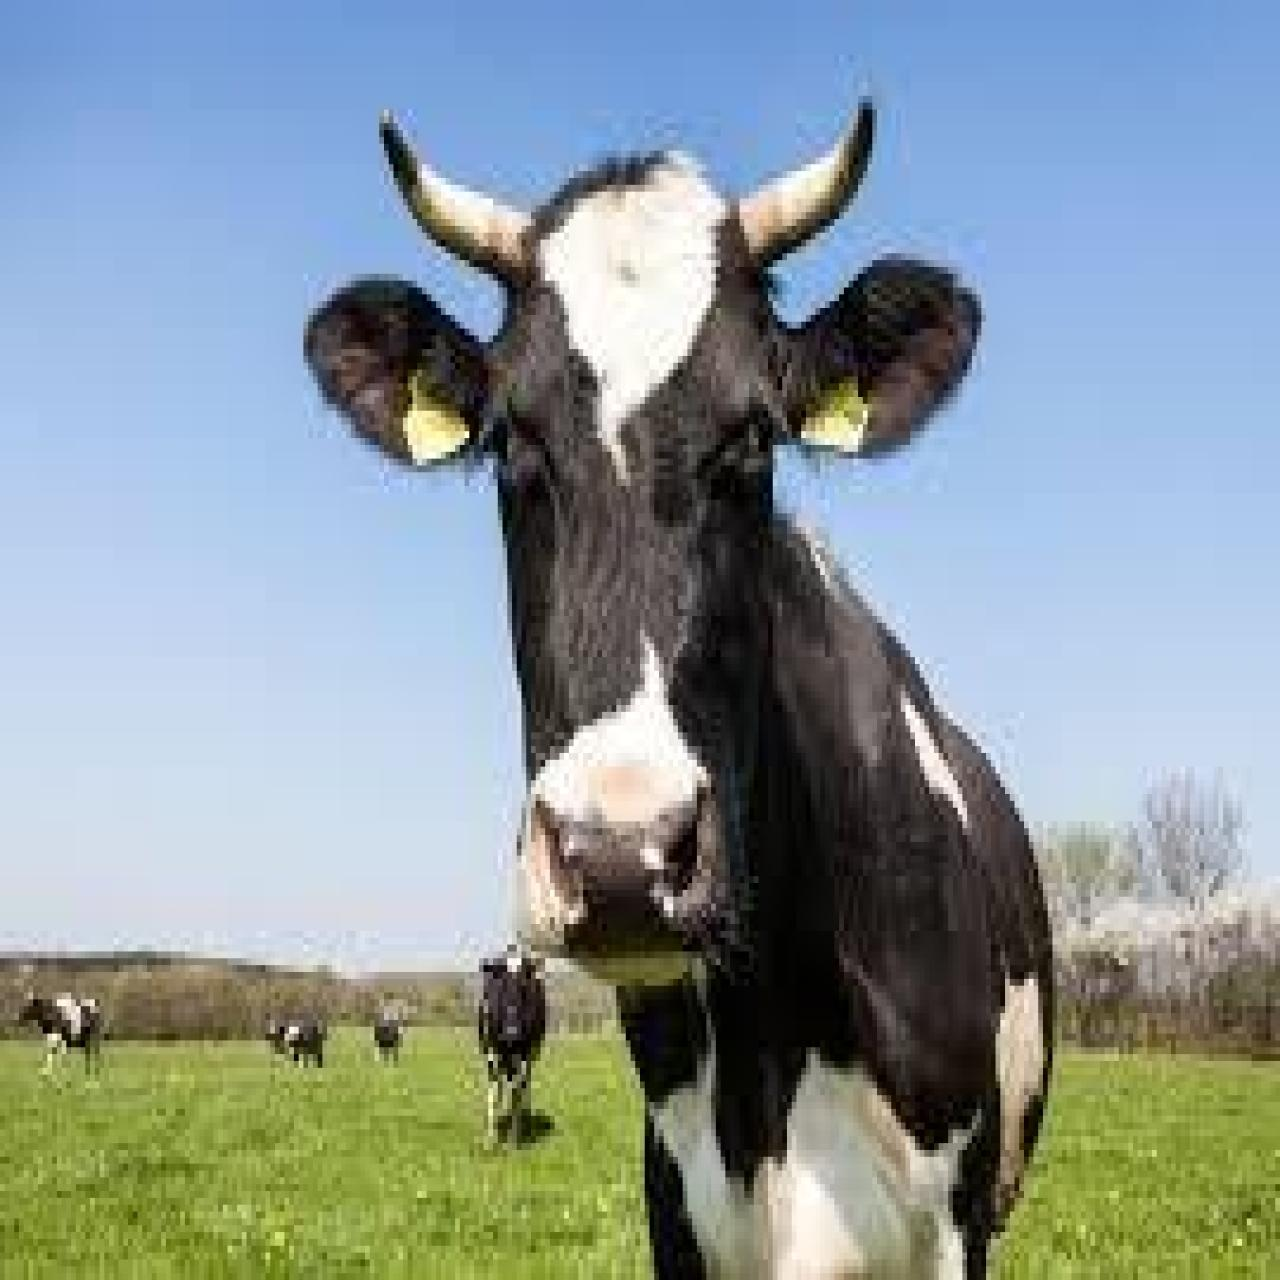cow: (306, 171, 1055, 1280), (474, 955, 550, 1153), (9, 986, 100, 1082)
